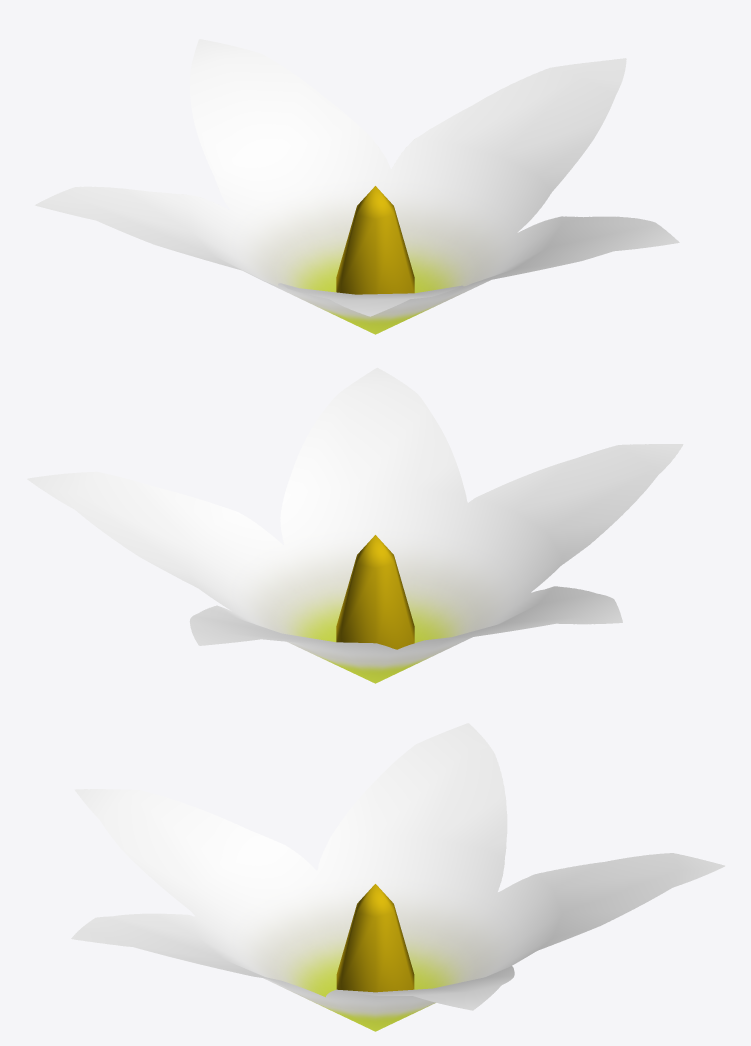
File: wall_ivy_leaf_01_flower.fbx
3 views of the same model, one above another, from view 1: azimuth 30°, elevation 25°; view 2: azimuth 150°, elevation 25°; view 3: azimuth 270°, elevation 25° (orthographic).
Visible parts, largest first — view 1: wall_ivy_01_flower_full; view 2: wall_ivy_01_flower_full; view 3: wall_ivy_01_flower_full.
Part boxes in pixels (<box>): wall_ivy_01_flower_full: <box>35,39,679,334</box>; wall_ivy_01_flower_full: <box>27,367,683,683</box>; wall_ivy_01_flower_full: <box>71,723,724,1031</box>.
Bounding box in the file's own units: 9.38 × 2.39 × 9.38.
